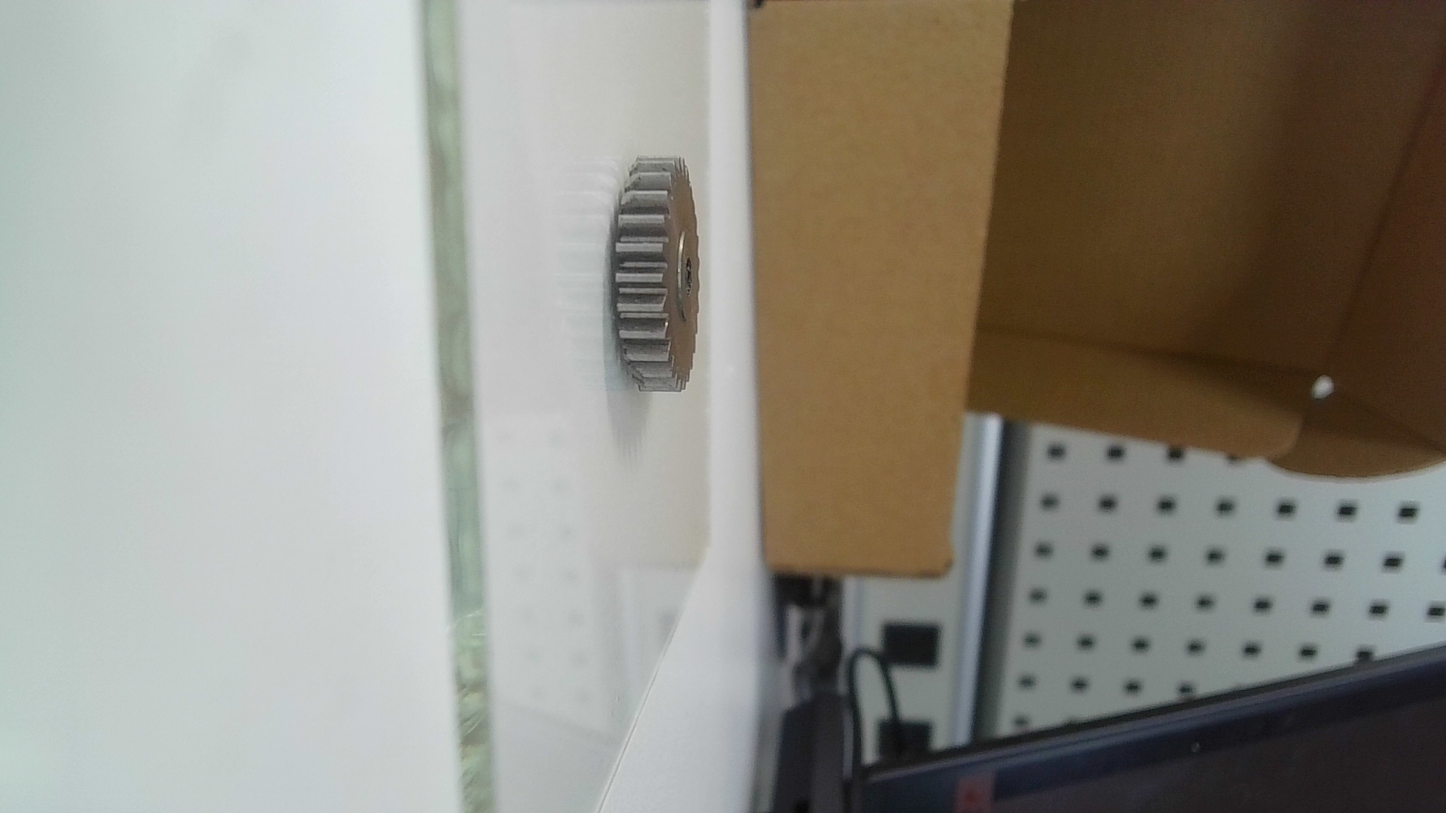gear: (602, 147, 707, 391)
